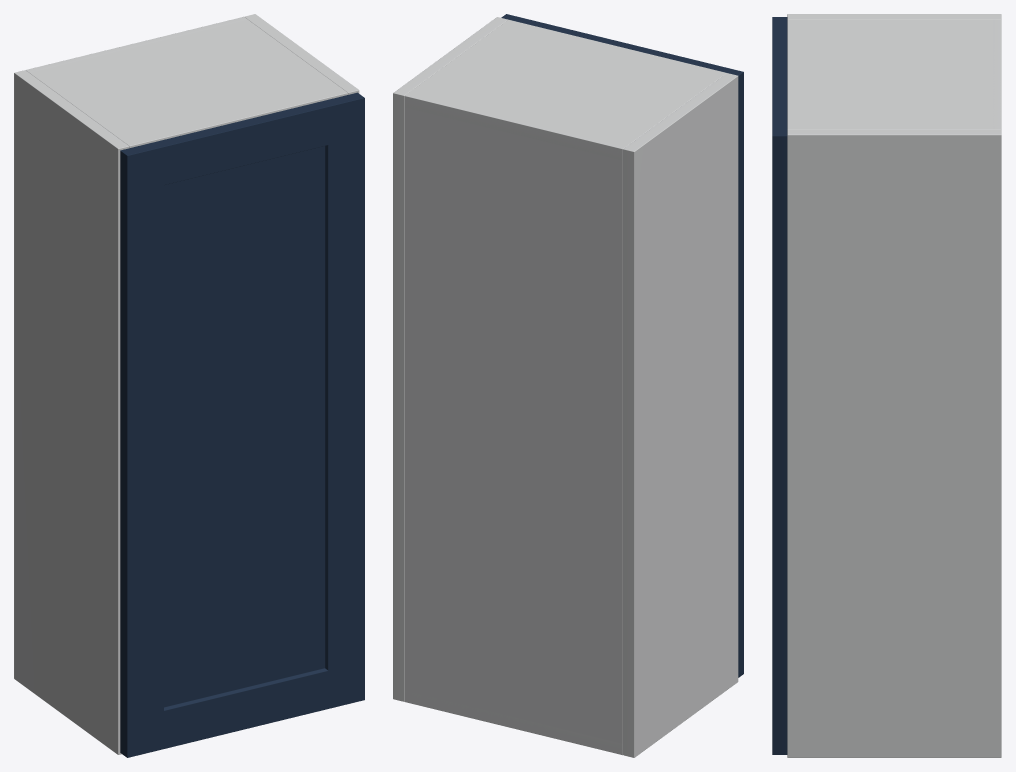
The model's file is oppein-ply-bss-w1536.glb.
3 views of the same model, side by side, from view 1: azimuth 30°, elevation 25°; view 2: azimuth 150°, elevation 25°; view 3: azimuth 270°, elevation 25° (orthographic). The views are drawn at different scales.
Visible parts, largest first — view 1: Door, Cabinet side, Cabinet top, Cabinet side.001, Cabinet back; view 2: Cabinet back, Cabinet side, Cabinet top, Cabinet side.001, Door, Cabinet bottom; view 3: Cabinet side.001, Cabinet top, Door, Cabinet side, Cabinet back.
Part boxes in pixels (bbox=[...]): Door: bbox=[120, 92, 364, 757]; Cabinet side: bbox=[14, 70, 129, 754]; Cabinet top: bbox=[26, 19, 347, 148]; Cabinet side.001: bbox=[244, 14, 359, 94]; Cabinet back: bbox=[26, 17, 247, 72]; Cabinet back: bbox=[404, 93, 626, 754]; Cabinet side: bbox=[623, 73, 738, 757]; Cabinet top: bbox=[405, 19, 726, 160]; Cabinet side.001: bbox=[393, 17, 507, 701]; Door: bbox=[501, 14, 743, 677]; Cabinet bottom: bbox=[405, 691, 622, 755]; Cabinet side.001: bbox=[787, 129, 1001, 757]; Cabinet top: bbox=[787, 19, 1001, 129]; Door: bbox=[772, 17, 787, 754]; Cabinet side: bbox=[787, 14, 1001, 19]; Cabinet back: bbox=[993, 19, 1001, 129].
Size of the model in its own units: 0.381 by 0.9144 by 0.3048.
